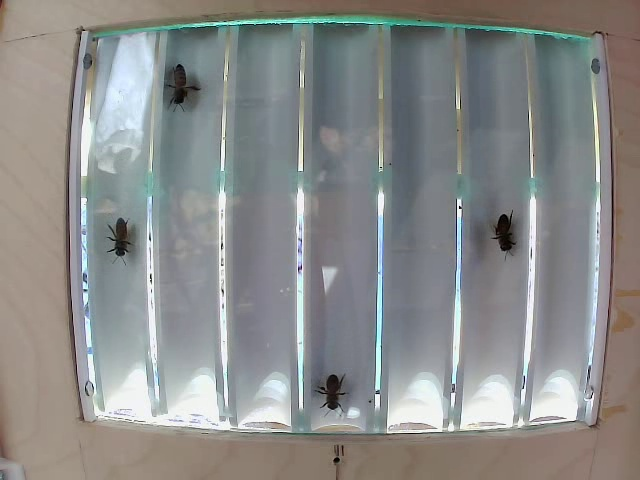bee: (479, 205, 531, 270), (312, 371, 368, 416), (98, 211, 136, 265), (154, 65, 194, 112)
